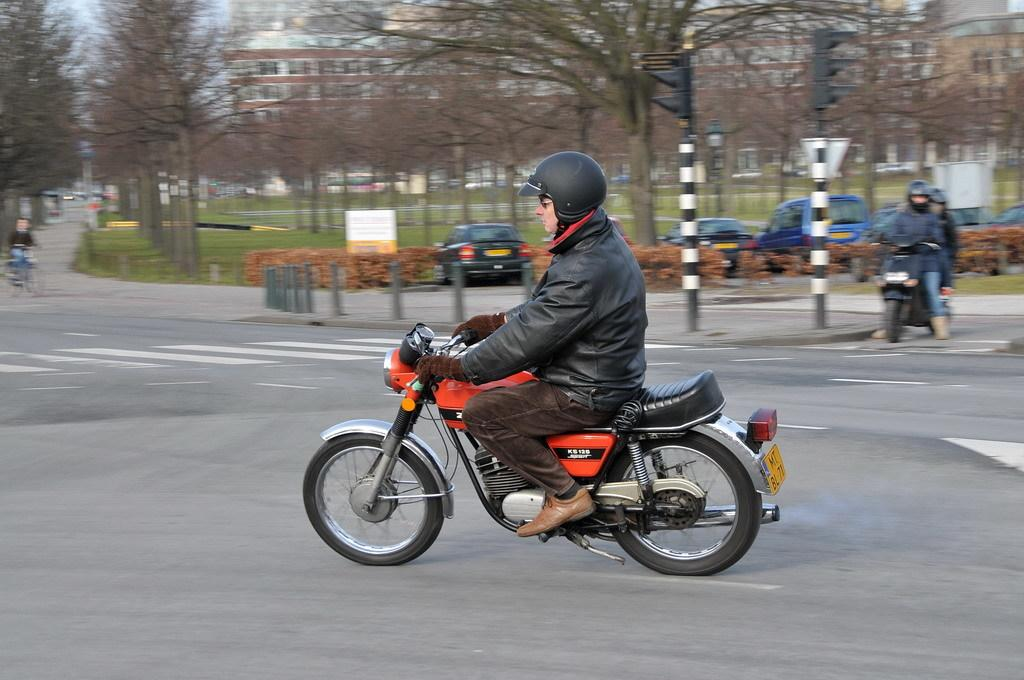helmet: (517, 151, 607, 230), (907, 179, 933, 212)
